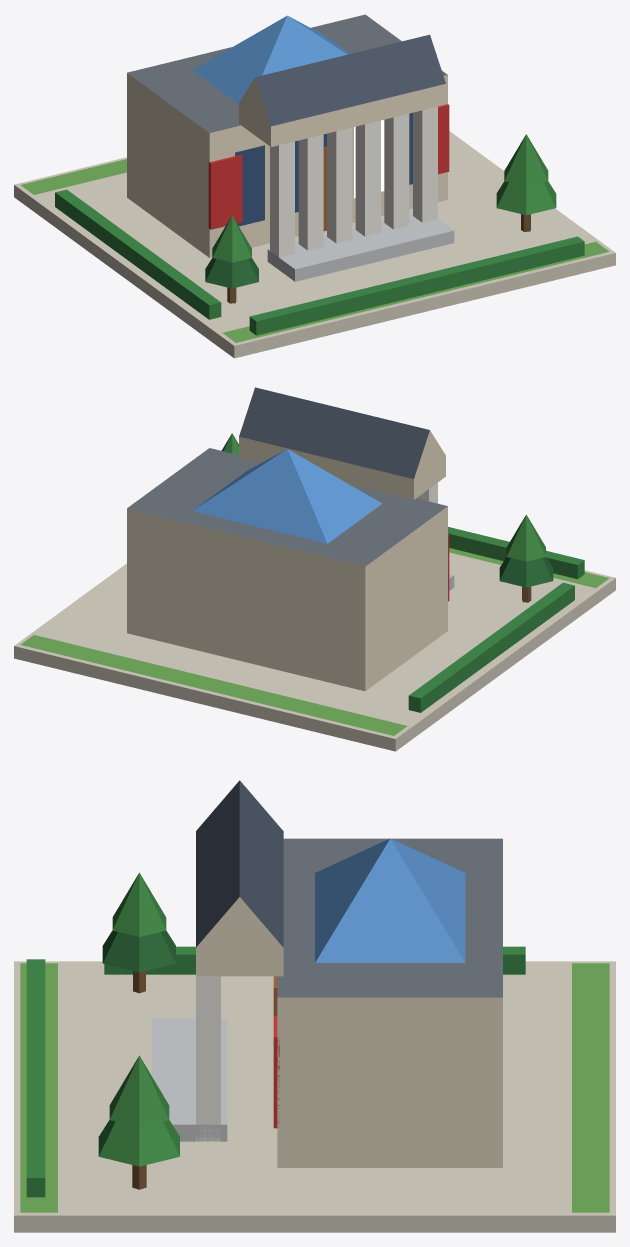
3 renders of one model, top to bottom at view 1: azimuth 30°, elevation 25°; view 2: azimuth 150°, elevation 25°; view 3: azimuth 270°, elevation 25°, orthographic. The views are drawn at different scales.
Visible parts, largest first — view 1: b25; view 2: b25; view 3: b25.
Part boxes in pixels (left/top/right/bottom): b25: left=14, top=14, right=615, bottom=358; b25: left=14, top=387, right=615, bottom=751; b25: left=14, top=780, right=615, bottom=1232.
Bounding box in the file's own units: 0.96 × 0.47 × 0.96.
